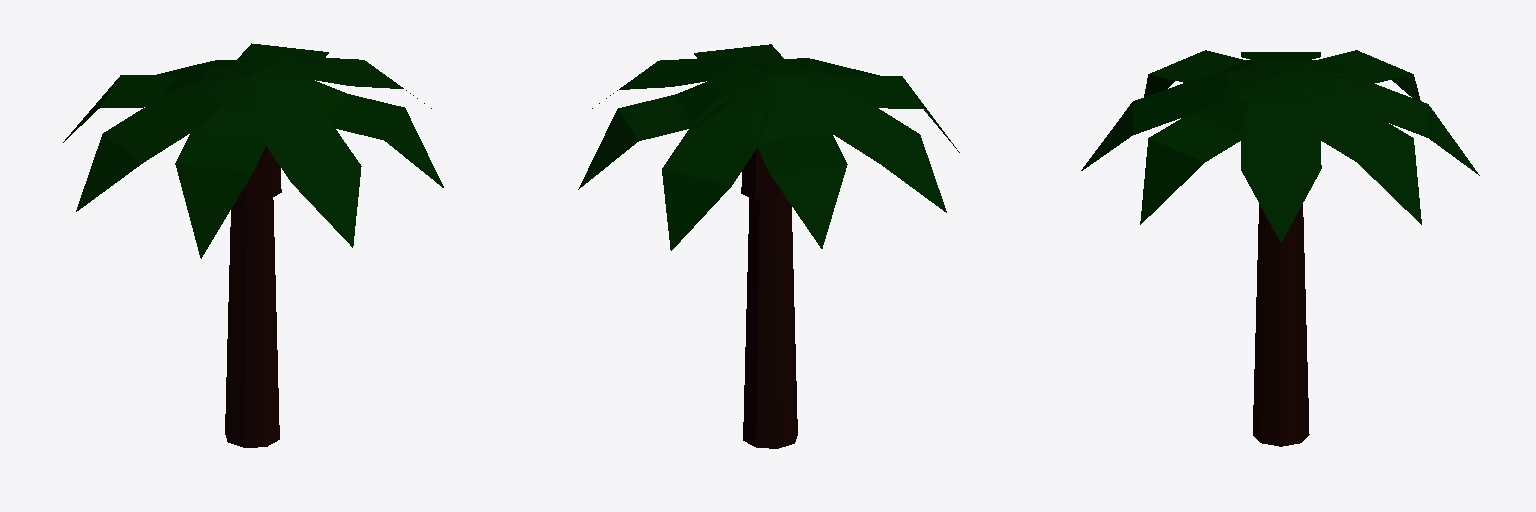
Rendered from palm2.obj.
3 views of the same model, side by side, from view 1: azimuth 30°, elevation 25°; view 2: azimuth 150°, elevation 25°; view 3: azimuth 270°, elevation 25° (orthographic).
Parts seen in each view (by area): view 1: Cylinder.035; view 2: Cylinder.035; view 3: Cylinder.035.
Boxes of the visible parts, x1,y1,x2,y2 form: Cylinder.035: [63, 43, 443, 447]; Cylinder.035: [578, 44, 959, 448]; Cylinder.035: [1081, 50, 1479, 446].
Size of the model in its own units: 7.32 by 7 by 7.06.